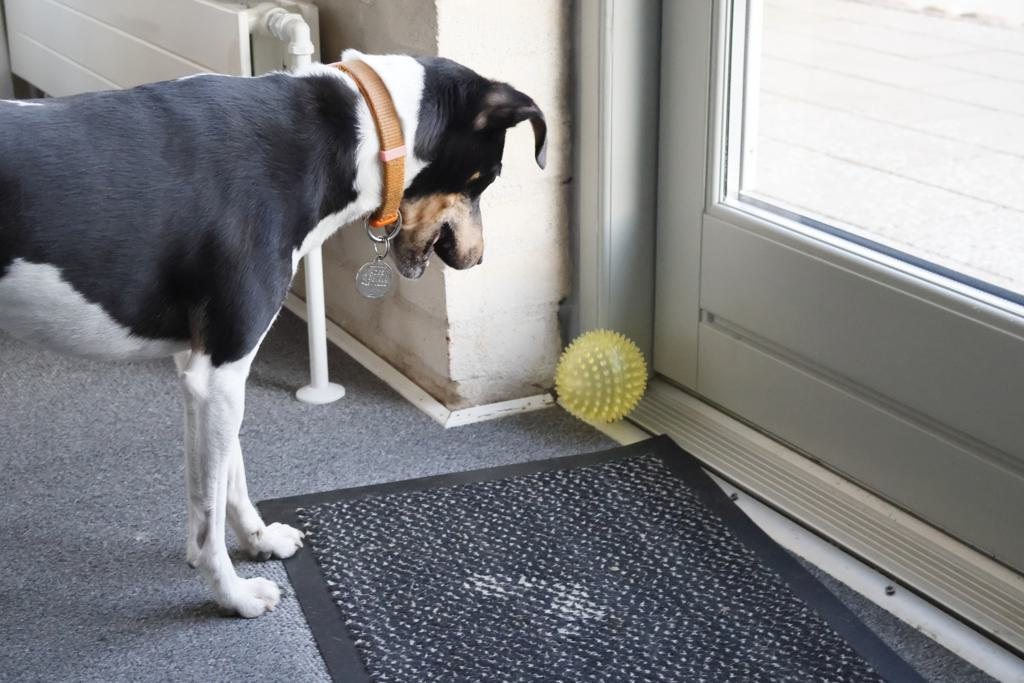Dog: (0, 41, 558, 621)
